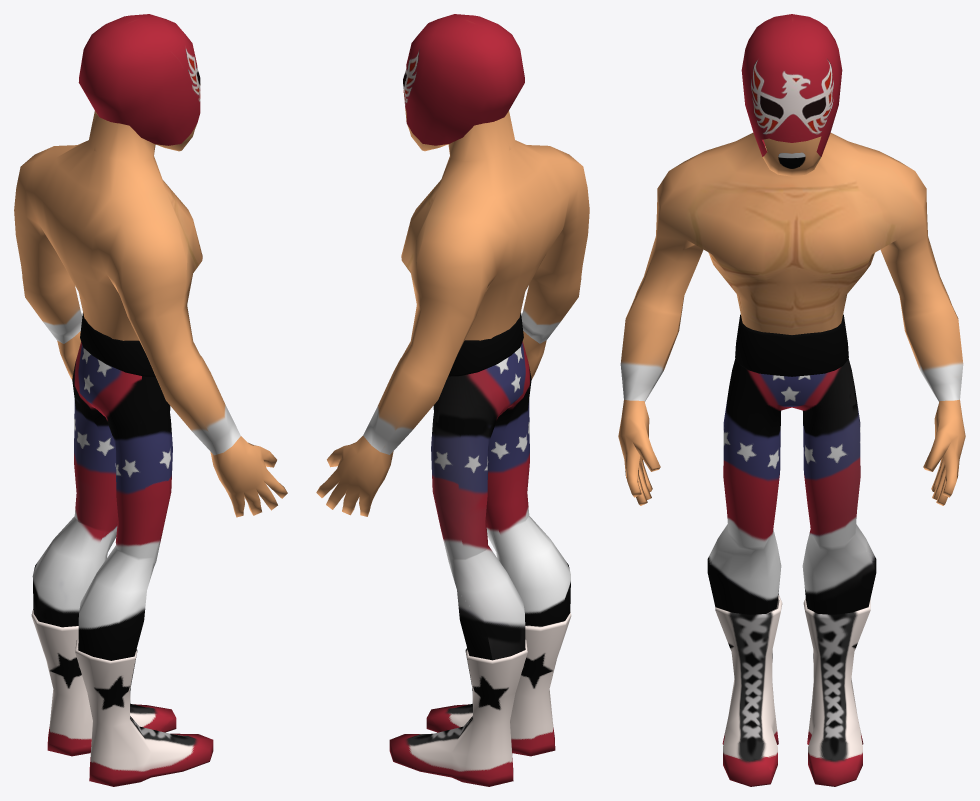
File: low_poly_wrestler_animated.glb
3 views of the same model, side by side, from view 1: azimuth 30°, elevation 25°; view 2: azimuth 150°, elevation 25°; view 3: azimuth 270°, elevation 25° (orthographic).
Visible parts, largest first — view 1: top_Material_0_Clone, Pant_Material_0_Clone, shoes_Material_0_Clone, head_Material_0_Clone, Cube_005_Material_0_Clone; view 2: top_Material_0_Clone, Pant_Material_0_Clone, shoes_Material_0_Clone, head_Material_0_Clone, Cube_005_Material_0_Clone; view 3: top_Material_0_Clone, Pant_Material_0_Clone, shoes_Material_0_Clone, head_Material_0_Clone, Cube_005_Material_0_Clone.
Part boxes in pixels (x1,y1,x2,y2): top_Material_0_Clone: [14, 111, 287, 517]; Pant_Material_0_Clone: [32, 342, 172, 660]; shoes_Material_0_Clone: [31, 609, 213, 786]; head_Material_0_Clone: [78, 14, 200, 145]; Cube_005_Material_0_Clone: [80, 313, 155, 376]; top_Material_0_Clone: [316, 109, 589, 516]; Pant_Material_0_Clone: [431, 341, 570, 660]; shoes_Material_0_Clone: [389, 612, 571, 786]; head_Material_0_Clone: [403, 14, 524, 145]; Cube_005_Material_0_Clone: [448, 312, 523, 376]; top_Material_0_Clone: [618, 133, 965, 505]; Pant_Material_0_Clone: [707, 359, 876, 614]; shoes_Material_0_Clone: [715, 594, 870, 786]; head_Material_0_Clone: [741, 14, 842, 156]; Cube_005_Material_0_Clone: [735, 314, 848, 376].
Bounding box in the file's own units: 0.2181 × 1 × 0.4261.
Materials: 1 (1 with a texture image).
